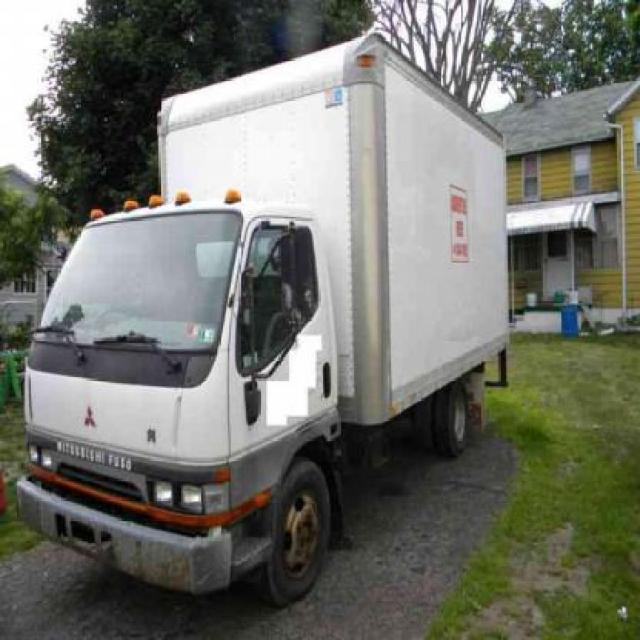truck: (14, 35, 510, 595)
